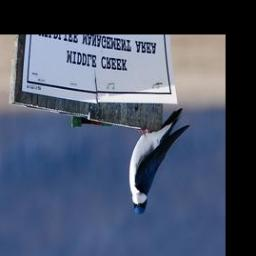Swallow: (128, 109, 188, 218)
